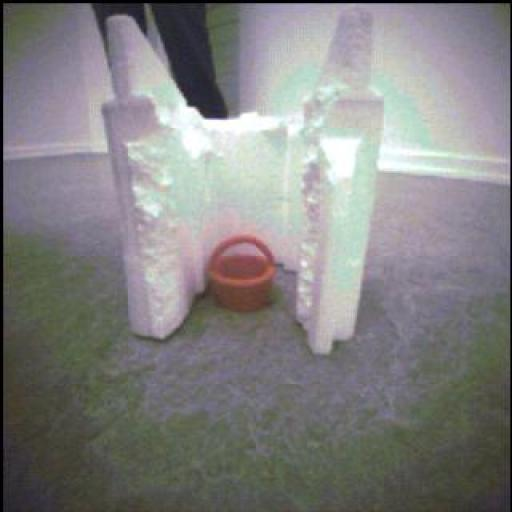Bucket: (206, 232, 279, 315)
